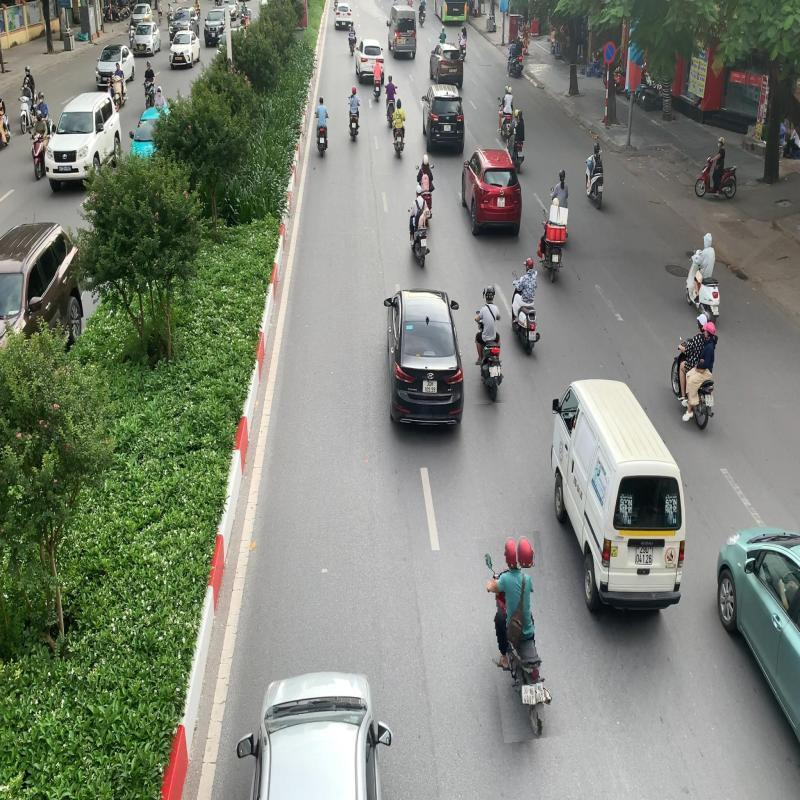helmet: (514, 532, 534, 568), (700, 320, 716, 338), (694, 312, 708, 328), (484, 284, 495, 304)
licenseplate: (522, 684, 538, 705), (704, 392, 714, 407), (489, 366, 499, 378)
motorcyclist: (483, 532, 561, 742), (670, 312, 718, 432), (466, 282, 506, 404)
